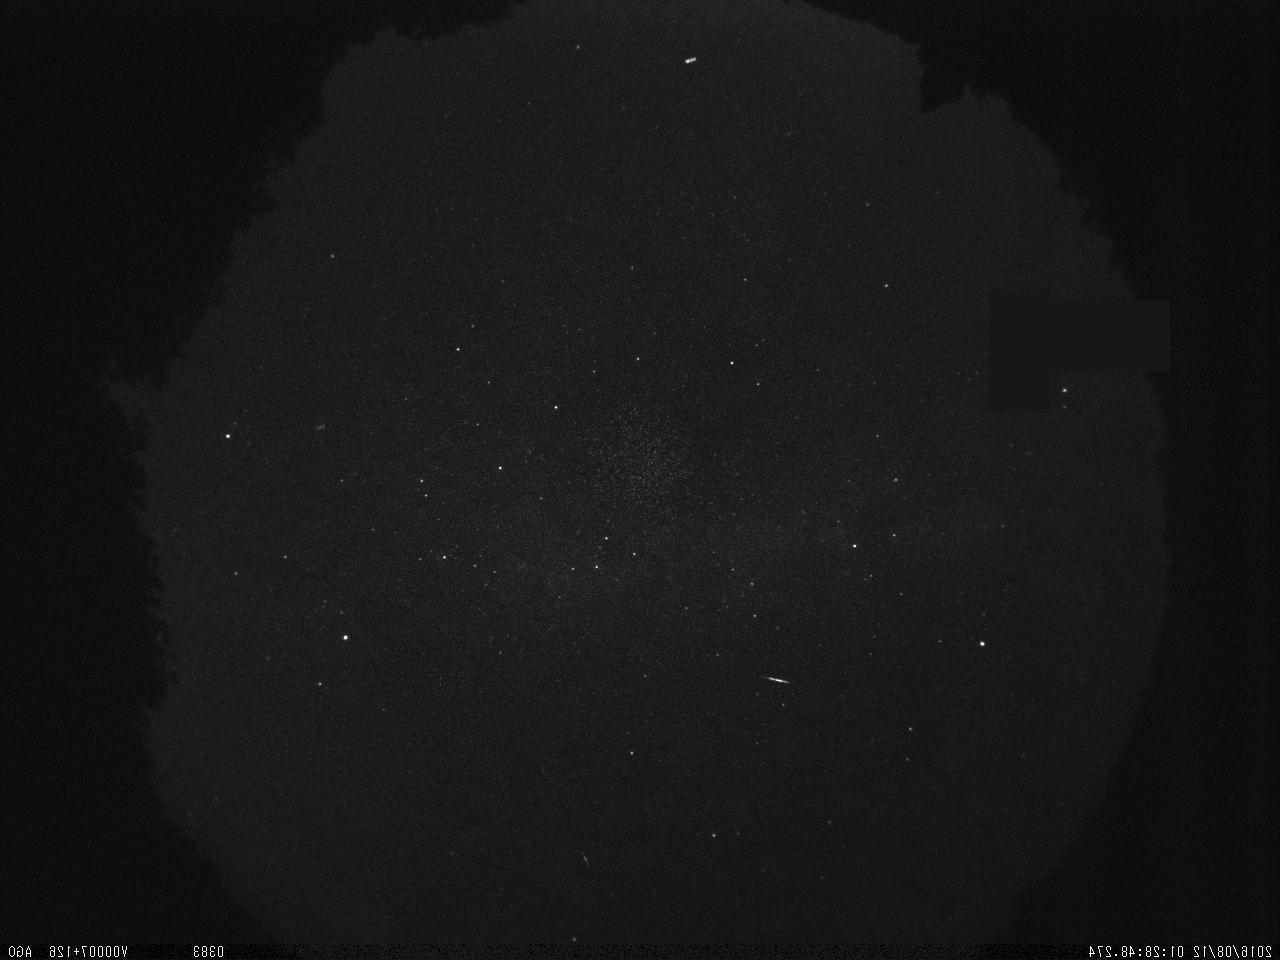meteor: (744, 661, 798, 698)
